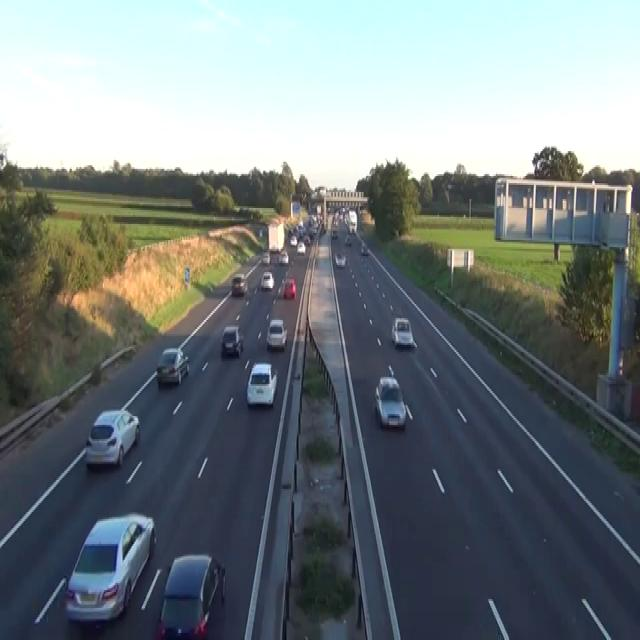Car: (64, 512, 156, 624), (154, 553, 226, 638), (85, 407, 140, 468), (374, 375, 406, 429), (246, 361, 277, 407), (156, 347, 189, 384), (220, 326, 243, 358), (391, 316, 414, 346), (266, 318, 287, 348), (230, 274, 247, 295), (260, 270, 274, 290), (283, 277, 296, 297), (334, 250, 346, 266), (278, 251, 288, 265), (261, 251, 270, 265), (296, 242, 305, 254), (348, 220, 356, 233), (327, 202, 337, 212), (360, 242, 368, 254), (344, 233, 352, 245), (269, 244, 279, 252), (290, 235, 297, 245), (304, 235, 310, 245), (331, 230, 338, 238), (322, 222, 327, 233), (298, 218, 303, 228), (258, 228, 262, 236)
Truck: (267, 220, 284, 252), (344, 210, 357, 233), (290, 201, 300, 219)
